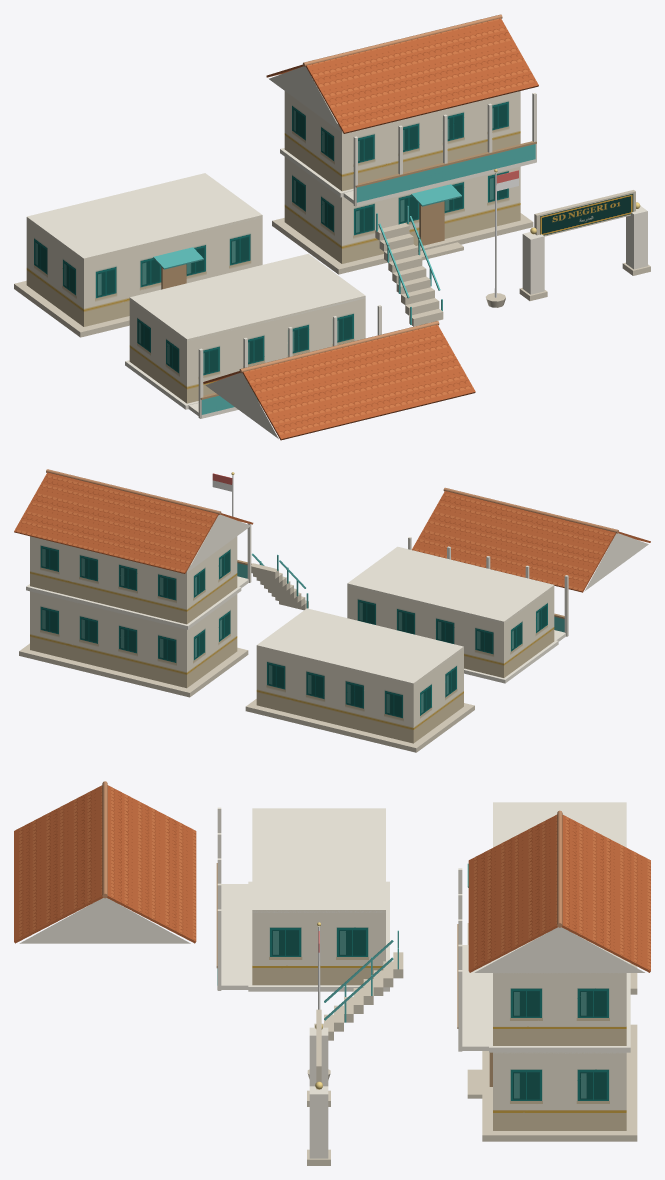
The model's file is kit-7-sekolah-dasar.glb.
3 renders of one model, top to bottom at view 1: azimuth 30°, elevation 25°; view 2: azimuth 150°, elevation 25°; view 3: azimuth 270°, elevation 25°, orthographic. The views are drawn at different scales.
Visible parts, largest first — view 1: SD_Contoh_2Lantai, SD_LantaiDasar, SD_LantaiAtas, SD_Atap, SD_Gerbang, SD_Tangga, SD_TiangBendera; view 2: SD_Contoh_2Lantai, SD_LantaiDasar, SD_LantaiAtas, SD_Atap, SD_Tangga; view 3: SD_Contoh_2Lantai, SD_LantaiAtas, SD_Atap, SD_LantaiDasar, SD_Gerbang, SD_Tangga.
Part boxes in pixels (x1,y1,x2,y2): SD_Contoh_2Lantai: (266, 14, 538, 274); SD_LantaiDasar: (14, 173, 262, 337); SD_LantaiAtas: (125, 253, 381, 418); SD_Atap: (203, 321, 475, 440); SD_Gerbang: (519, 190, 650, 300); SD_Tangga: (375, 206, 443, 326); SD_TiangBendera: (486, 169, 518, 307); SD_Contoh_2Lantai: (14, 469, 253, 697); SD_LantaiDasar: (245, 608, 474, 752); SD_LantaiAtas: (347, 537, 568, 683); SD_Atap: (412, 487, 650, 592); SD_Tangga: (251, 553, 308, 610); SD_Contoh_2Lantai: (457, 810, 650, 1141); SD_LantaiAtas: (216, 807, 389, 991); SD_Atap: (14, 781, 196, 943); SD_LantaiDasar: (467, 802, 637, 994); SD_Gerbang: (307, 1009, 330, 1165); SD_Tangga: (314, 930, 403, 1040).
Bounding box in the file's own units: 25.02 × 9.05 × 23.81.
Materials: 11 (3 with a texture image).
